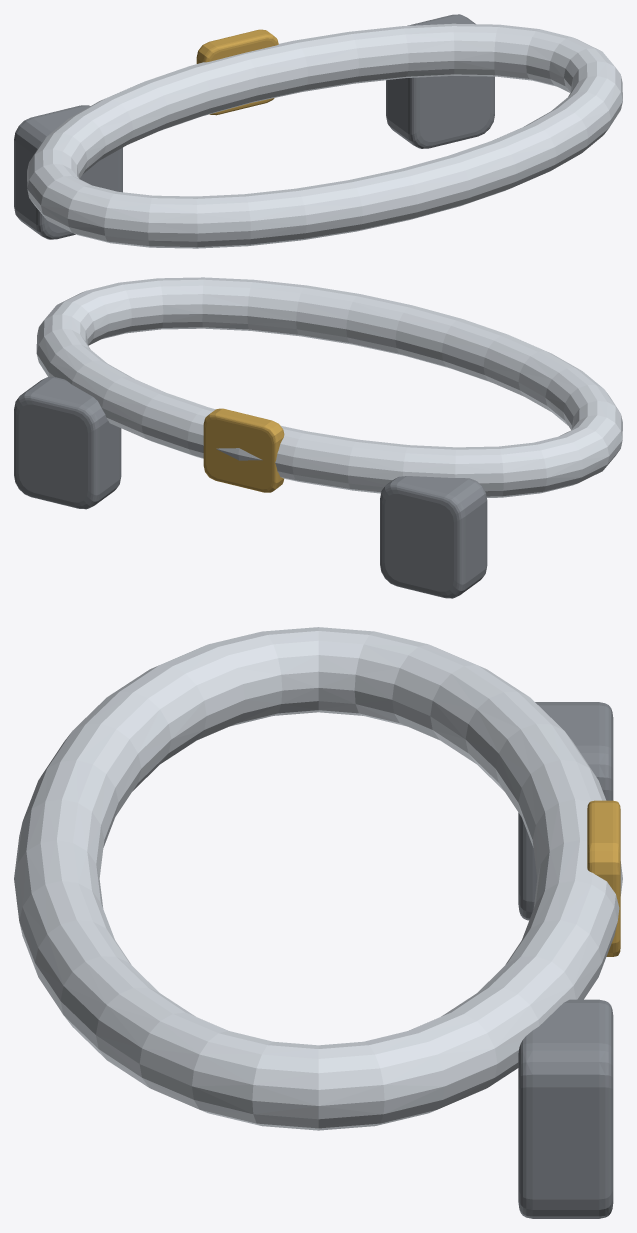
File: ToolBelt.obj
The picture shows the model from 3 angles, top to bottom: view 1: azimuth 30°, elevation 25°; view 2: azimuth 150°, elevation 25°; view 3: azimuth 270°, elevation 25°; orthographic projection. The views are drawn at different scales.
Bounding box in the file's own units: 2.26 × 0.51 × 1.28.
